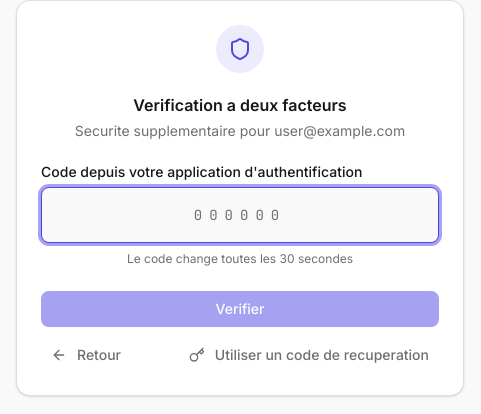
Test: MFAVerify › Mode TOTP › accepte uniquement les chiffres
Note: Type only letters and digits but fewer than 6 total digits to avoid auto-submit
Step 1. Type "abc12" into the field with placeholder "000000" → (240, 215), box [41,187,439,243]
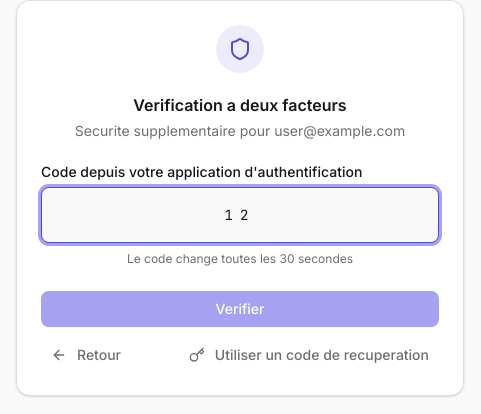
Expected: the field with placeholder "000000" holds "12", [41,187,439,243]
